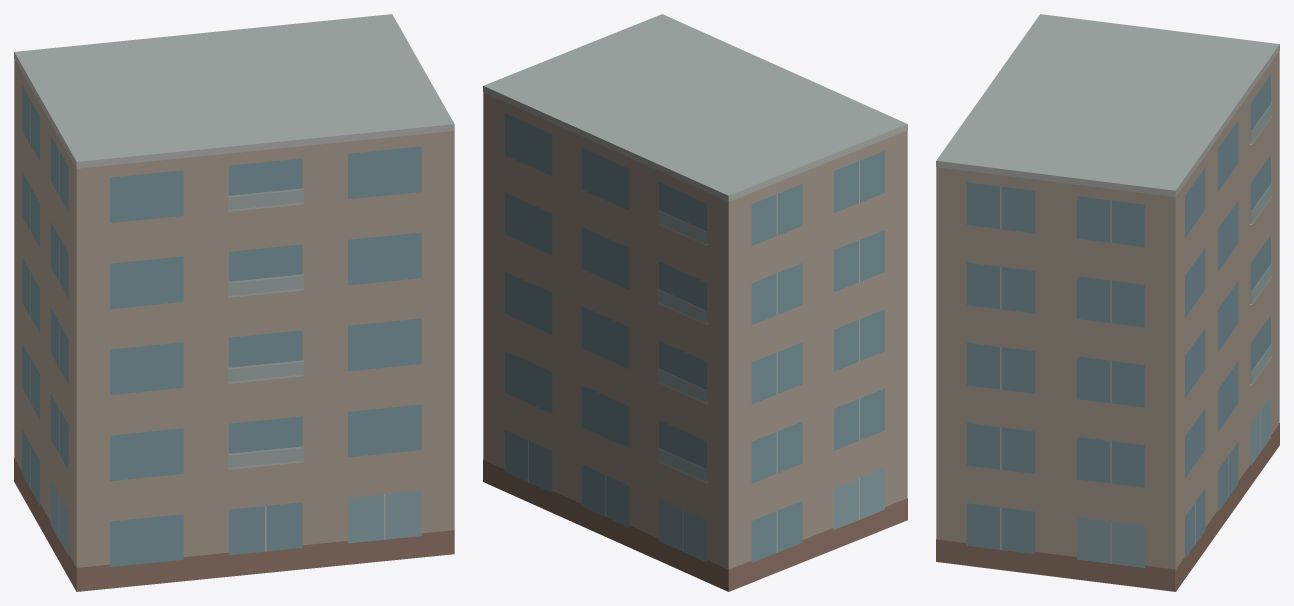
File: survey-upis-33046971.glb
3 renders of one model, left to right at view 1: azimuth 30°, elevation 25°; view 2: azimuth 150°, elevation 25°; view 3: azimuth 270°, elevation 25°, orthographic. The views are drawn at different scales.
Parts seen in each view (by area): view 1: survey-upis-33046971.tmp; view 2: survey-upis-33046971.tmp; view 3: survey-upis-33046971.tmp.
Boxes of the visible parts, x1,y1,x2,y2 form: survey-upis-33046971.tmp: (14,14,454,591); survey-upis-33046971.tmp: (483,14,907,591); survey-upis-33046971.tmp: (936,14,1279,591).
Size of the model in its own units: 14.56 by 15.4 by 11.97.
